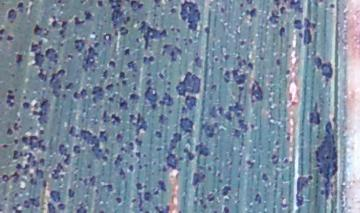tarspot: (314, 121, 339, 200), (67, 124, 112, 163), (208, 86, 248, 122), (72, 38, 101, 75), (136, 19, 168, 52), (29, 38, 48, 82), (107, 1, 130, 37), (178, 1, 203, 30), (312, 56, 334, 88), (175, 71, 202, 97), (230, 118, 250, 152), (294, 174, 313, 208), (165, 132, 182, 170), (126, 111, 150, 136), (10, 150, 37, 172), (48, 69, 66, 101), (30, 99, 50, 126), (19, 132, 46, 150), (302, 16, 317, 48), (199, 120, 221, 140), (160, 43, 182, 63), (248, 80, 265, 104), (143, 86, 159, 110), (231, 67, 249, 86), (57, 143, 73, 164), (308, 102, 321, 127), (90, 85, 106, 104), (178, 116, 195, 133), (119, 141, 135, 159), (44, 47, 60, 65), (32, 24, 51, 39), (50, 163, 66, 180), (194, 142, 210, 158), (22, 196, 41, 209), (158, 92, 174, 107), (58, 19, 70, 39), (191, 171, 206, 186), (184, 94, 197, 111), (48, 188, 62, 203), (109, 111, 123, 126), (1, 172, 20, 183), (182, 145, 195, 161), (6, 7, 18, 24), (270, 146, 280, 166), (269, 9, 280, 27), (72, 88, 87, 101), (288, 1, 302, 14), (127, 92, 141, 105), (4, 93, 16, 108), (156, 178, 168, 193), (220, 183, 232, 197), (117, 96, 129, 110), (136, 189, 143, 213), (133, 180, 148, 191), (153, 204, 171, 213), (101, 108, 110, 126), (75, 201, 88, 213), (126, 60, 139, 72), (112, 153, 123, 167), (130, 1, 144, 12), (292, 18, 304, 30), (222, 69, 231, 85), (192, 56, 204, 68), (244, 8, 257, 19), (118, 167, 127, 182), (50, 13, 59, 28), (83, 9, 94, 21), (158, 113, 168, 126), (13, 53, 24, 64), (102, 183, 113, 194), (46, 201, 56, 213), (205, 192, 217, 202), (72, 143, 82, 155), (10, 203, 22, 213), (102, 33, 112, 45), (34, 166, 43, 179), (113, 195, 124, 205), (107, 92, 117, 103), (143, 190, 152, 202), (187, 35, 195, 48), (57, 201, 67, 211), (134, 136, 144, 146), (5, 33, 16, 42), (73, 15, 82, 26), (108, 58, 117, 69), (254, 193, 262, 205), (88, 174, 96, 186), (14, 1, 24, 10), (245, 159, 254, 169), (220, 53, 230, 62), (115, 132, 124, 142), (237, 59, 247, 68), (144, 77, 153, 87), (65, 81, 74, 91), (278, 26, 286, 37), (246, 61, 254, 72), (152, 185, 160, 196), (21, 100, 30, 109), (153, 129, 162, 138), (279, 5, 287, 15), (5, 127, 13, 137), (104, 82, 114, 90), (28, 177, 38, 185), (102, 69, 108, 82), (68, 187, 75, 198), (131, 82, 138, 93), (203, 25, 211, 34), (222, 204, 230, 213), (123, 47, 131, 56), (238, 39, 246, 48), (179, 104, 187, 113), (157, 72, 166, 80), (155, 145, 164, 153), (133, 151, 142, 159), (118, 71, 127, 79), (285, 134, 292, 144), (41, 178, 48, 188), (274, 57, 280, 68), (328, 2, 336, 10), (141, 55, 149, 63), (129, 197, 137, 205), (261, 172, 268, 181), (297, 30, 304, 39), (148, 54, 155, 63), (161, 164, 168, 173), (127, 163, 134, 172), (38, 128, 45, 137), (37, 157, 46, 164), (206, 164, 212, 174), (238, 2, 246, 9), (169, 7, 176, 15), (209, 83, 217, 90), (136, 163, 143, 171), (120, 79, 128, 86), (65, 53, 73, 60), (1, 143, 10, 149), (273, 1, 280, 8), (282, 157, 289, 164), (249, 123, 256, 130), (145, 71, 152, 78), (217, 177, 224, 184), (96, 1, 103, 8), (58, 41, 65, 48), (284, 68, 290, 76), (274, 138, 280, 146), (165, 80, 173, 86), (13, 137, 19, 145), (27, 172, 35, 178), (13, 191, 19, 199), (141, 152, 147, 160), (216, 171, 222, 179), (79, 1, 88, 6), (153, 1, 162, 6), (213, 56, 220, 62), (219, 6, 225, 13), (134, 36, 140, 43), (169, 26, 175, 33), (235, 54, 242, 60), (164, 86, 171, 92), (86, 162, 92, 169), (258, 55, 265, 61), (1, 26, 6, 34), (181, 37, 187, 43), (96, 209, 105, 213), (167, 108, 172, 115), (183, 40, 188, 47), (3, 196, 8, 203), (1, 33, 4, 43), (174, 36, 179, 42), (175, 27, 181, 32), (143, 161, 148, 167), (245, 1, 252, 5), (211, 209, 218, 213), (56, 1, 63, 5), (143, 209, 149, 213), (176, 210, 183, 213), (165, 1, 175, 3), (1, 207, 4, 213), (281, 1, 288, 3)
